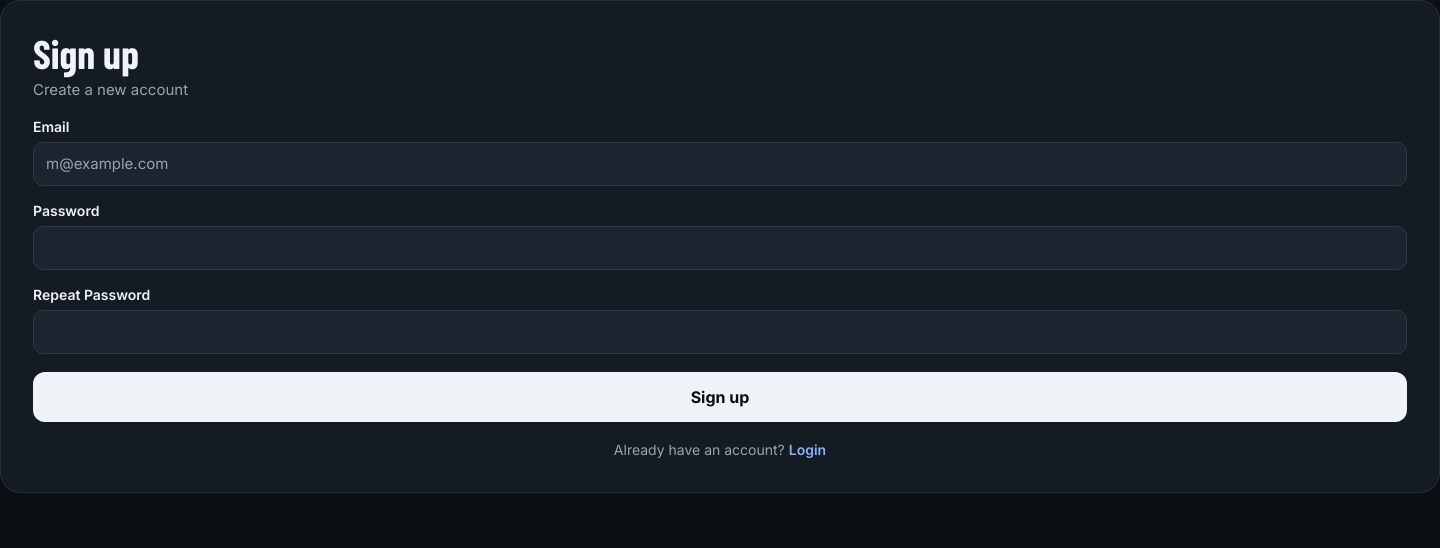
SignUpForm › displays error message on sign-up failure
In the field labelled "Email": (720, 164) [33, 142, 1407, 186], type "test@example.com"
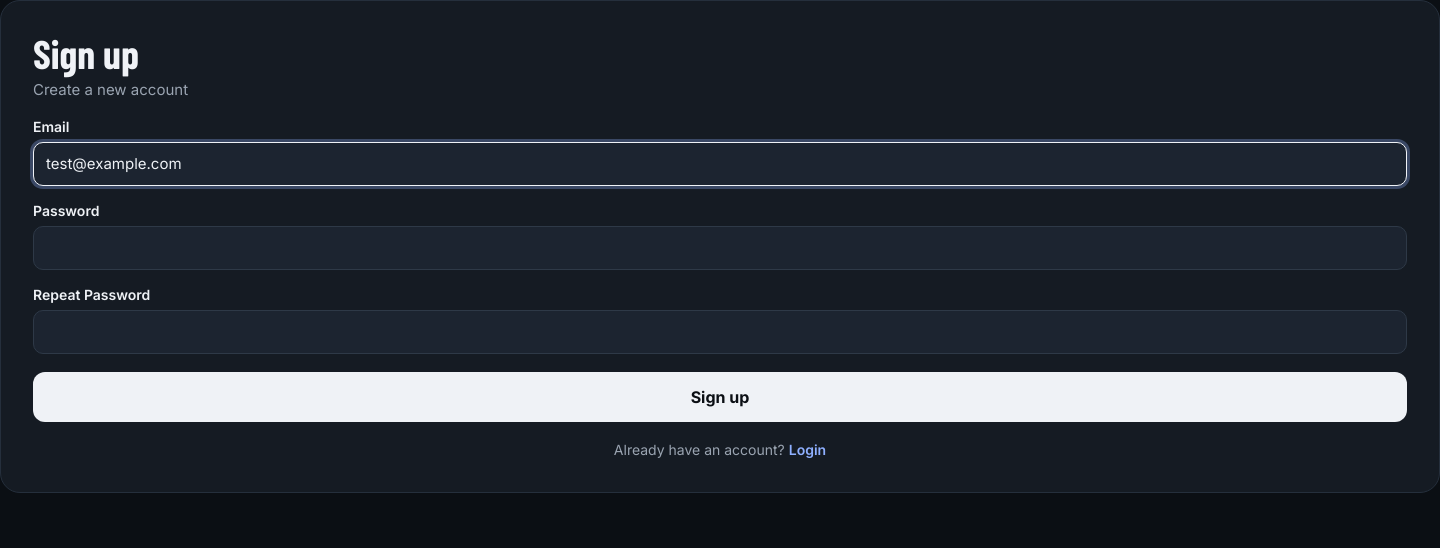
In the password field labelled "Password": (720, 248) [33, 226, 1407, 270], type "password123"
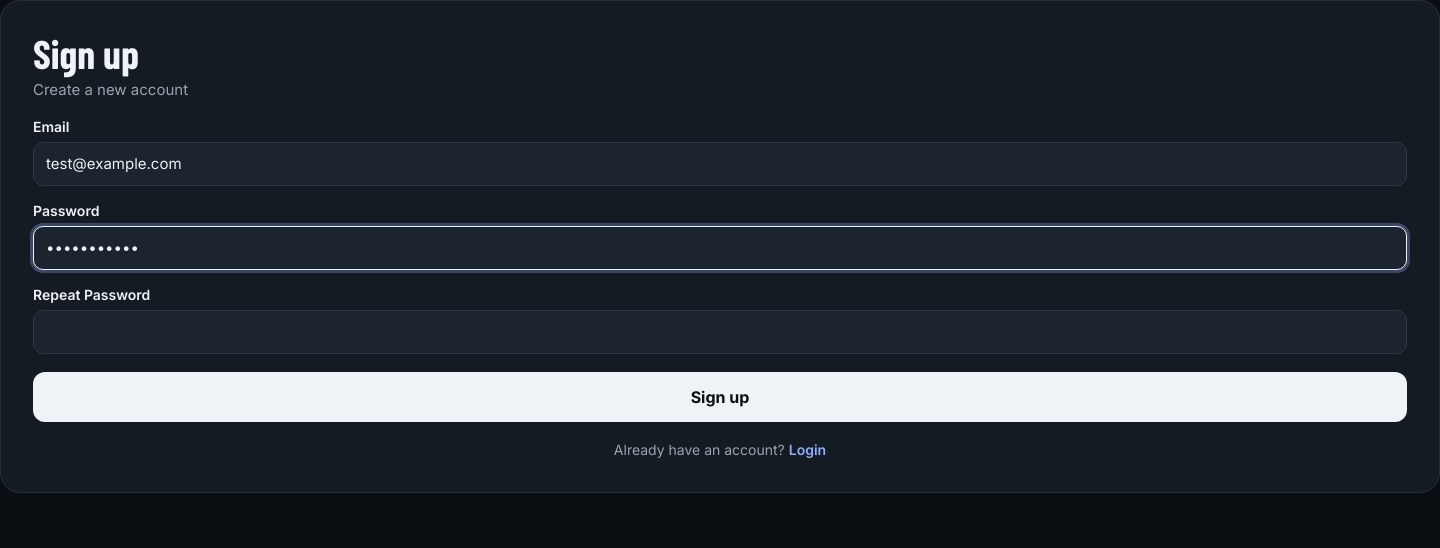
In the password field labelled "Repeat Password": (720, 332) [33, 310, 1407, 354], type "password123"
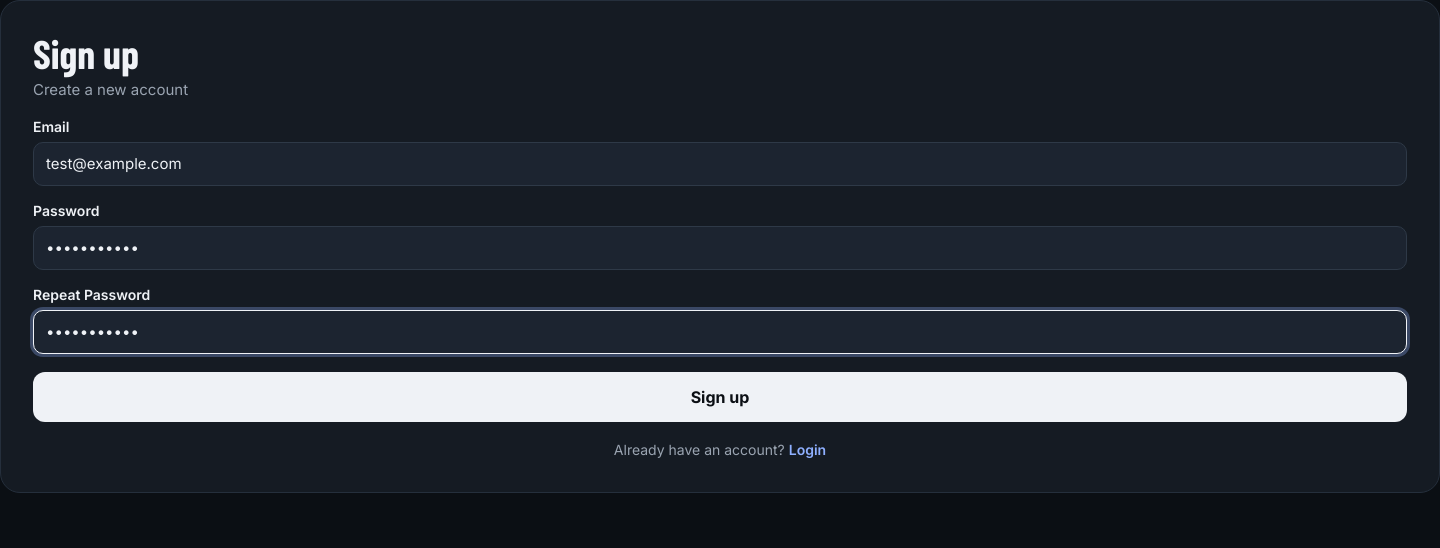
Click the button "Sign up": (720, 396) [33, 372, 1407, 422]
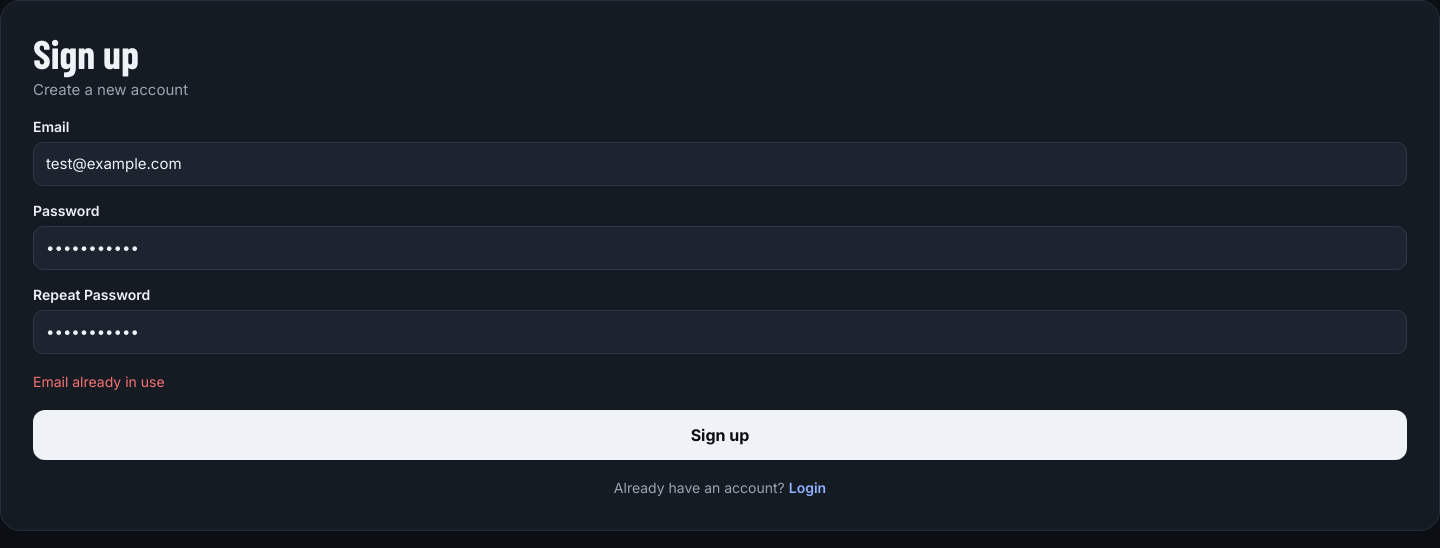
Result: the text "Email already in use" is shown at [33, 372, 165, 390]
